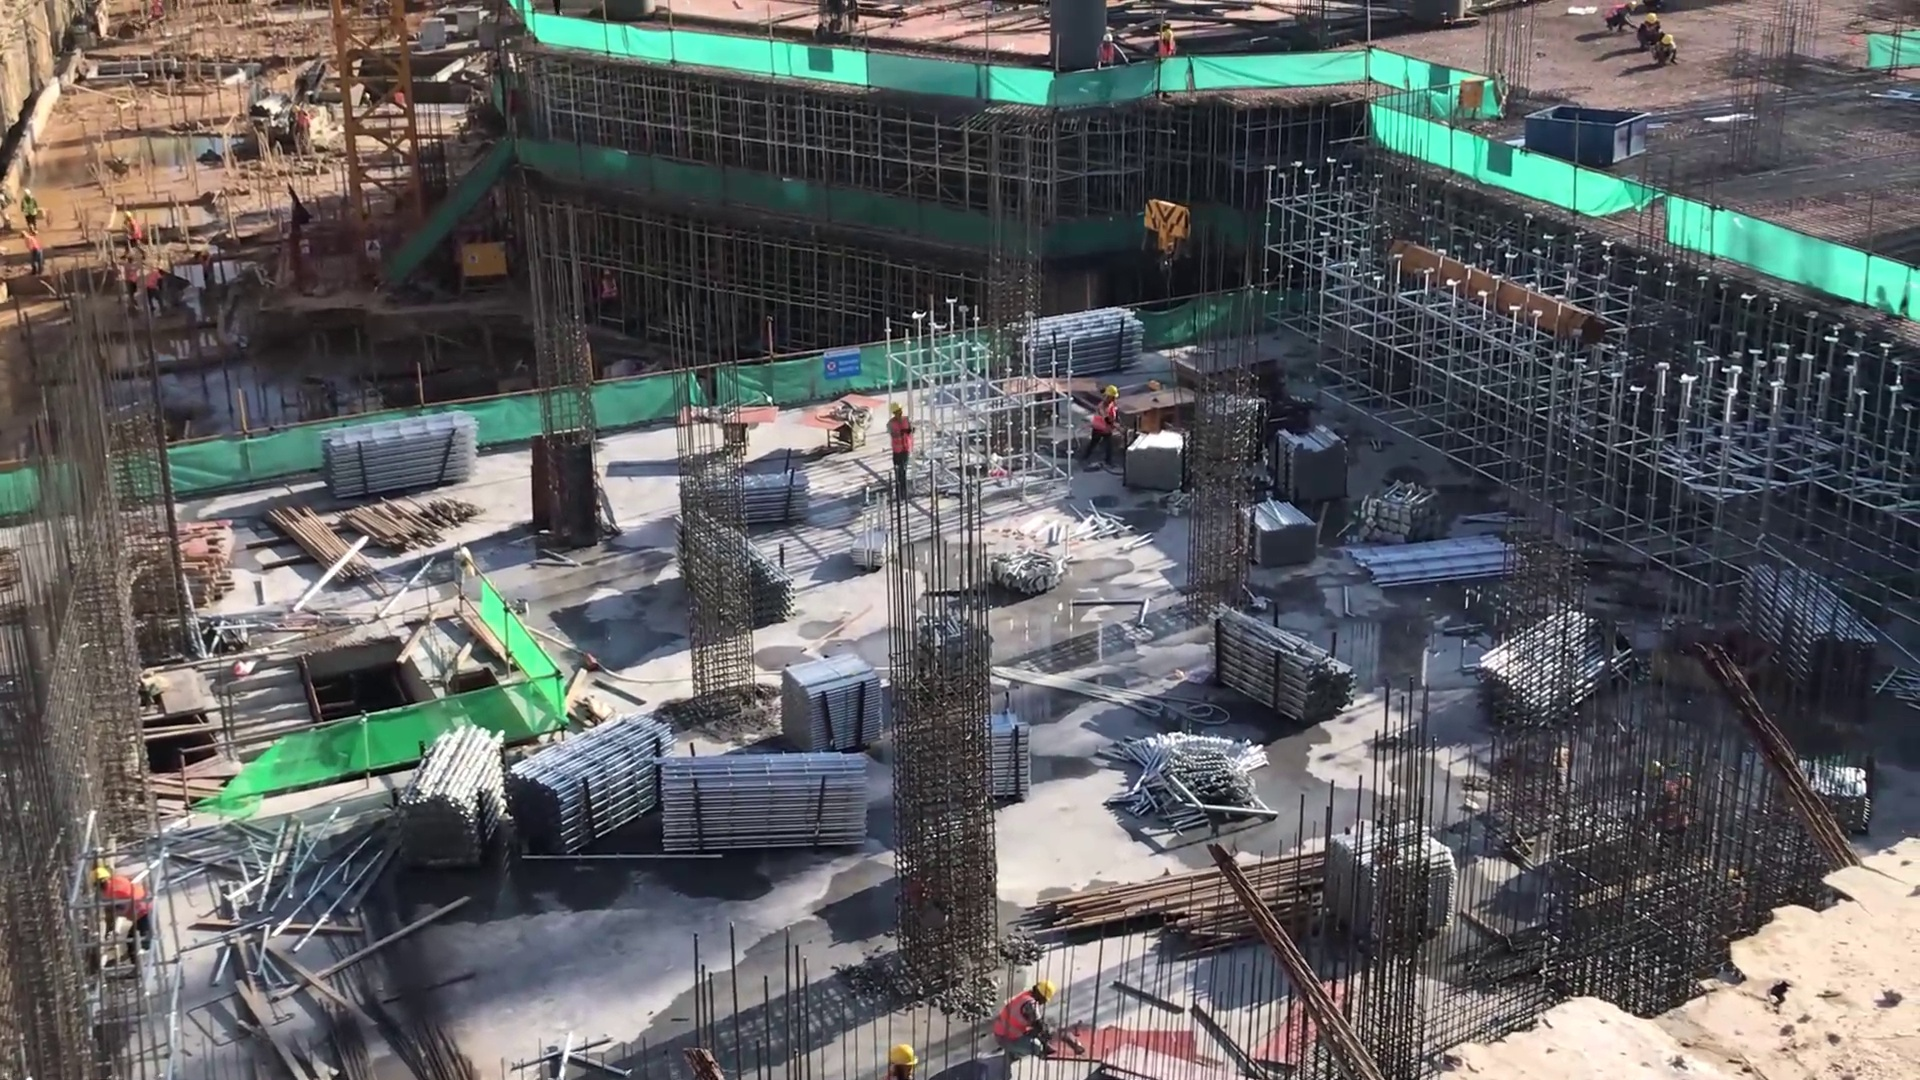cutter: (794, 389, 883, 454), (682, 397, 788, 450)
ebox: (453, 231, 512, 302)
helmet: (882, 1042, 922, 1071), (87, 861, 112, 897), (1033, 978, 1057, 1009), (885, 396, 905, 416), (1105, 380, 1122, 400)
hook: (1138, 193, 1198, 278)
hopper: (1515, 97, 1657, 171)
person: (982, 976, 1066, 1062), (86, 863, 169, 947), (880, 399, 922, 512), (1078, 382, 1125, 476), (874, 1041, 929, 1080)
scaffold: (510, 697, 684, 875), (650, 739, 879, 870), (381, 712, 518, 872), (308, 404, 490, 509), (1208, 601, 1356, 730), (782, 639, 885, 760), (1019, 299, 1155, 389), (1274, 415, 1361, 530), (739, 454, 823, 533), (1237, 497, 1321, 567), (1135, 430, 1189, 493)
vest: (106, 875, 154, 924), (991, 991, 1034, 1045), (885, 415, 917, 455), (1088, 401, 1121, 436)
